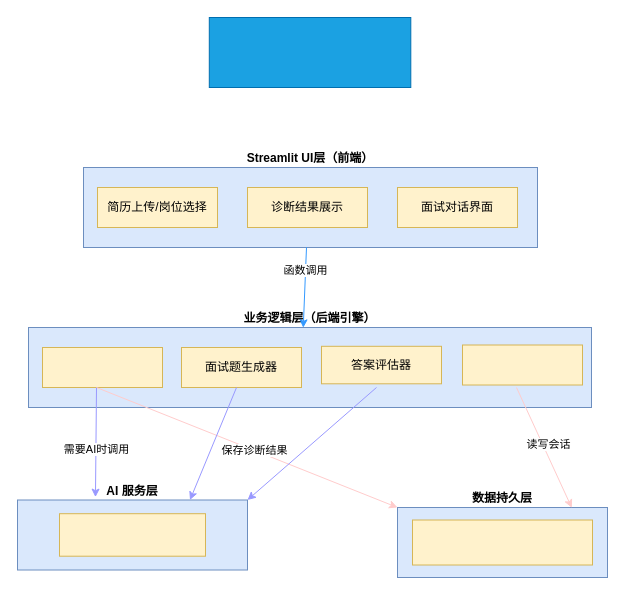
This 625x595 diagram has some shape labels left out. The shapes that lost their labels are listed below. From the top down, each one's centre as x and y in pixels, then its label:
At point (309, 52): "OfferGenius系统架构图".
At point (102, 367): "简历诊断引擎".
At point (522, 364): "会话管理器".
At point (132, 534): "LLMMClient（DeepSeek）".
At point (502, 542): "session.json（未来->SQLite）".
